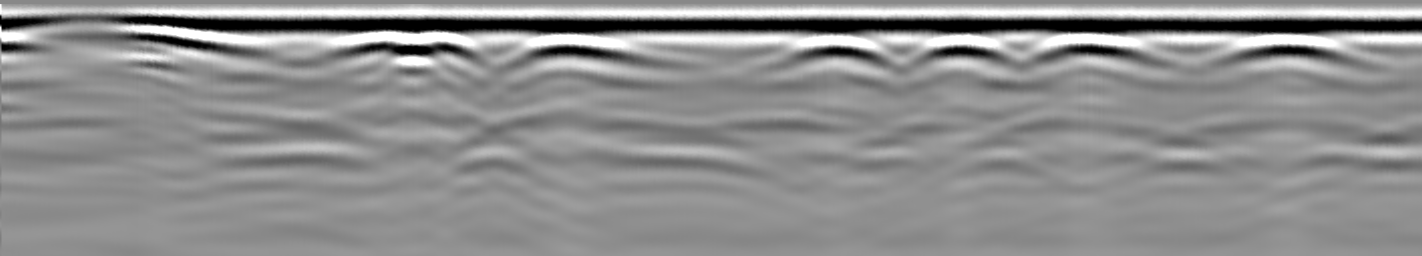pipe: (20, 13, 261, 53)
steel: (1201, 33, 1392, 73), (762, 31, 907, 71), (318, 31, 491, 64), (499, 32, 662, 65), (1024, 32, 1167, 67), (907, 31, 1034, 68)
